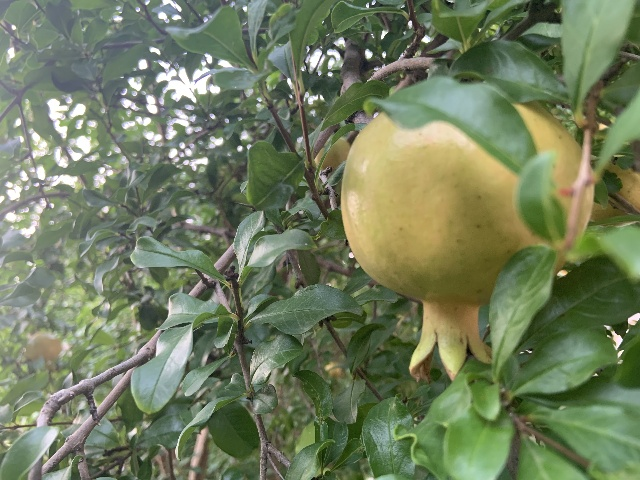mid-growth: (338, 105, 601, 385), (23, 333, 61, 367)
